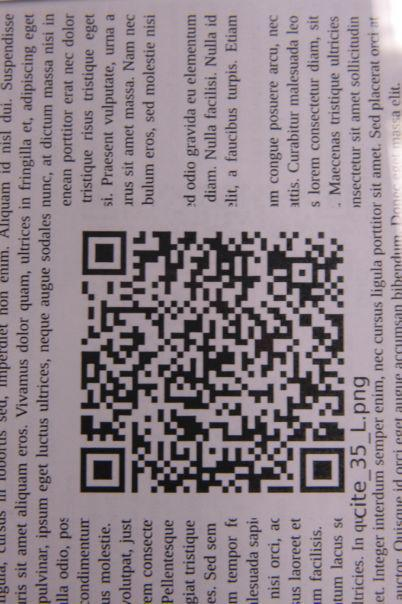Finder pattern: (294, 443, 350, 498), (78, 443, 132, 497), (78, 228, 134, 278)
